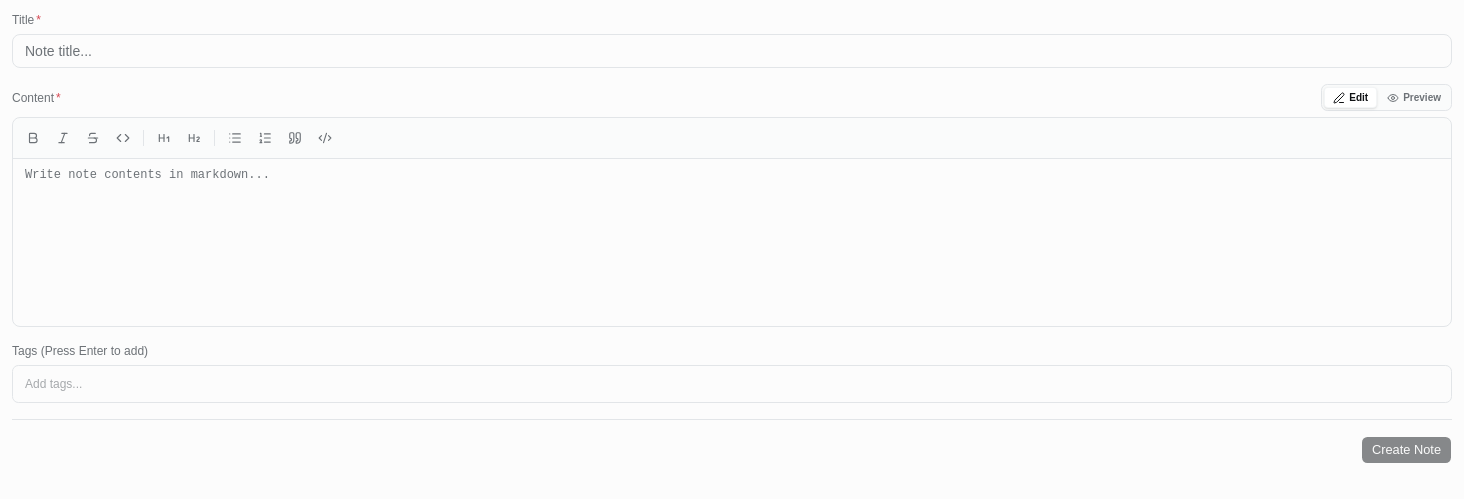
Scenario: NoteForm › closes suggestion list on Escape key
This screenshot has width=1464, height=499.
Type "a" into the field labelled "Tags (Press Enter to add)" at (732, 384), box x1=25 y1=374 x2=1439 y2=394
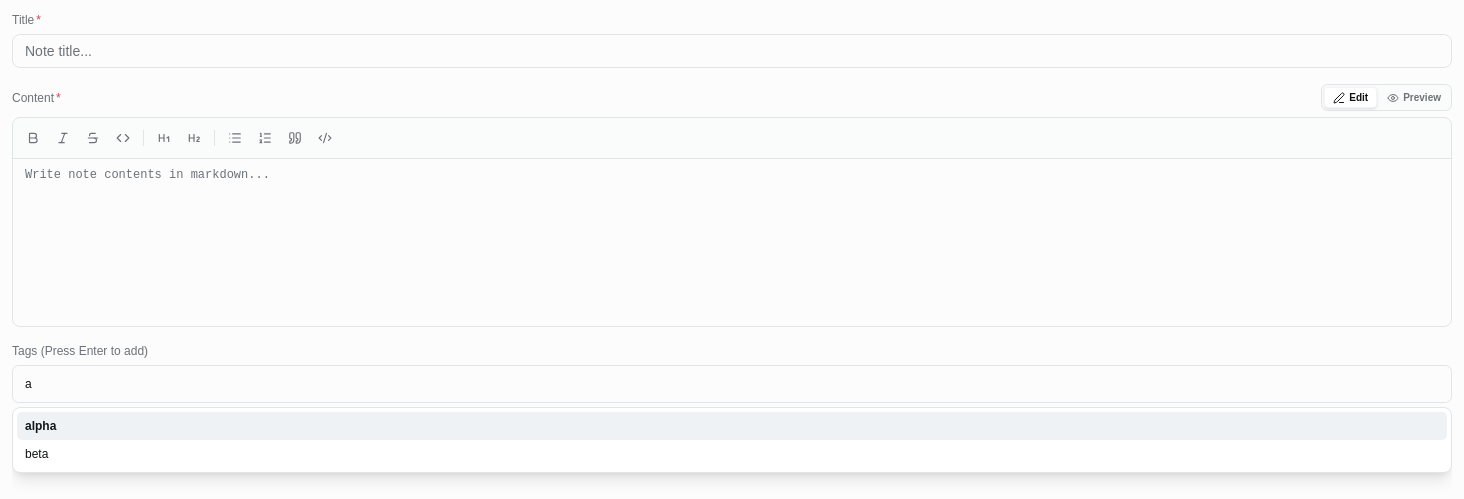
Now the list with test id "tags-suggestions-list" is shown, box x1=12 y1=407 x2=1452 y2=473
Press Escape in the field labelled "Tags (Press Enter to add)", box x1=25 y1=374 x2=1439 y2=394
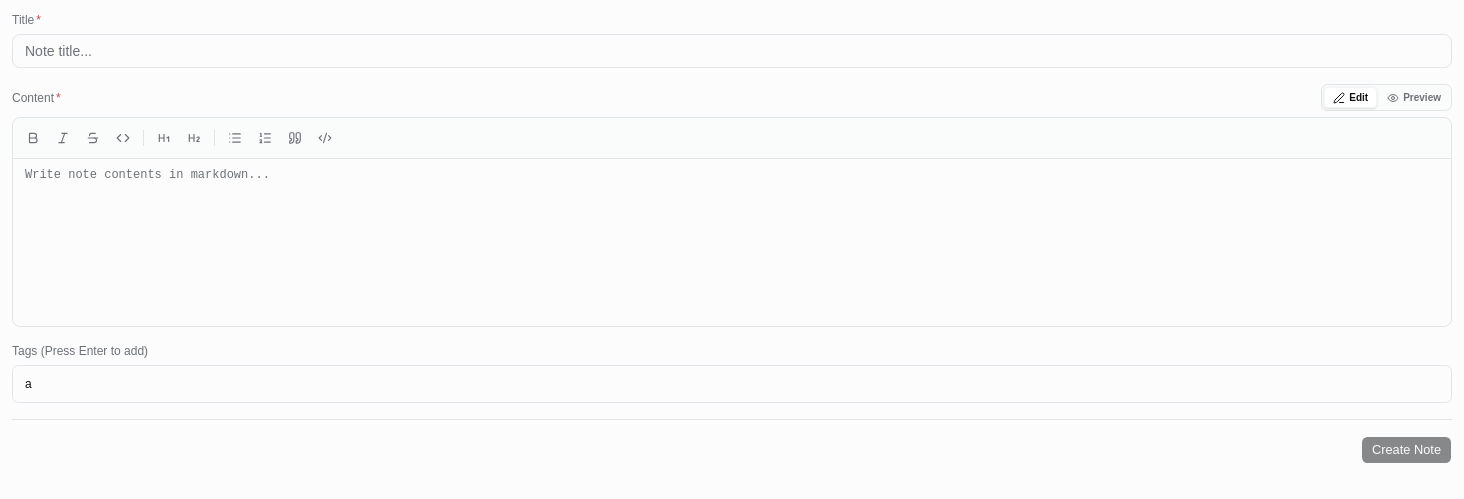
Now the list with test id "tags-suggestions-list" is gone
